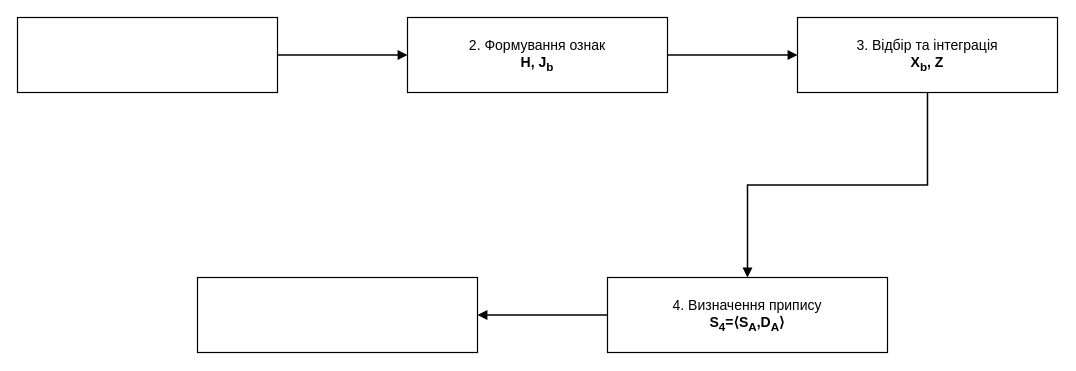
This 1076x371 diagram has some shape labels left out. The centre of each missing label's shape, as x and y in pixels:
"1. Попереднє оброблення X mm → X c" belongs at point 147,54.
"5. Реєстрація результатів S 5 =F R (S 4 ,C R )" belongs at point 337,314.
